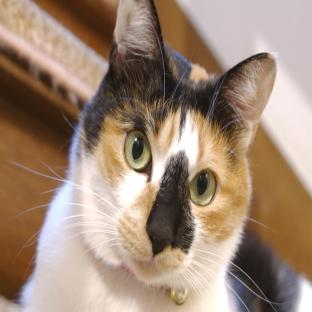Animal: (13, 0, 311, 312)
